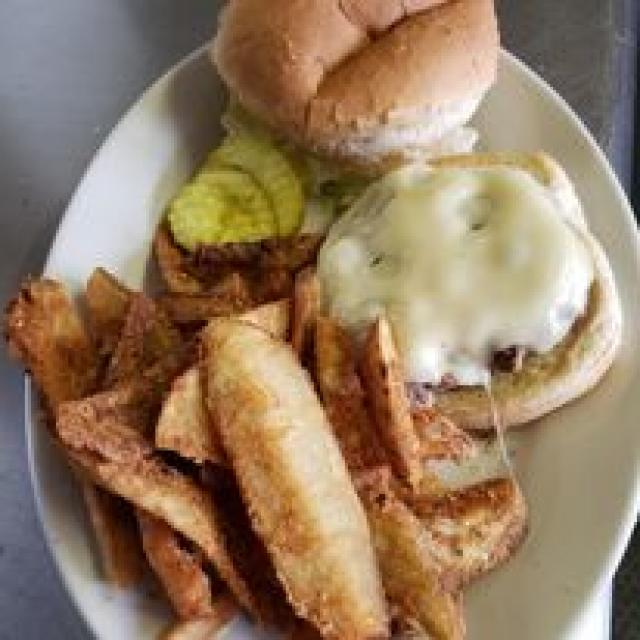Burger: (232, 0, 618, 346)
French Fries: (16, 261, 528, 637)
